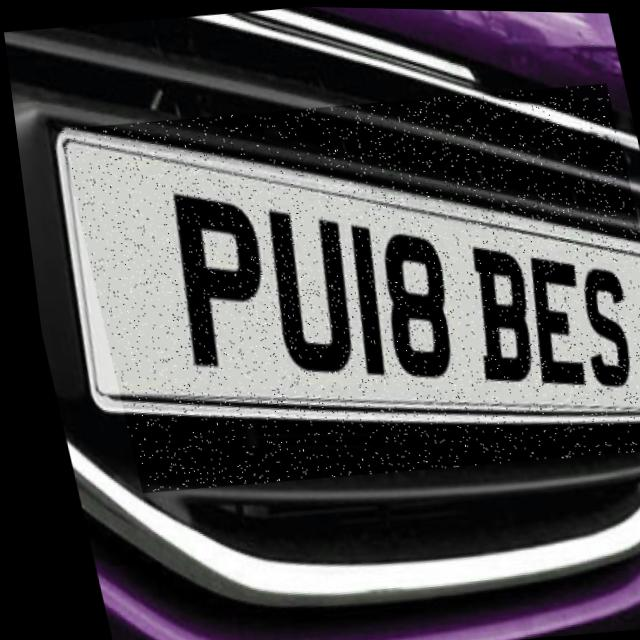license_plate: (50, 70, 640, 502)
